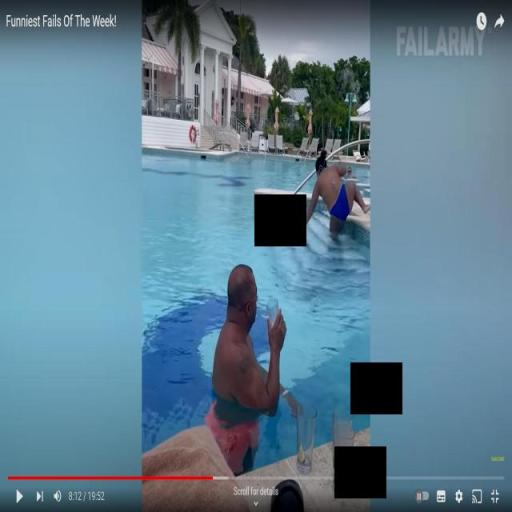Fall: (296, 147, 370, 241)
